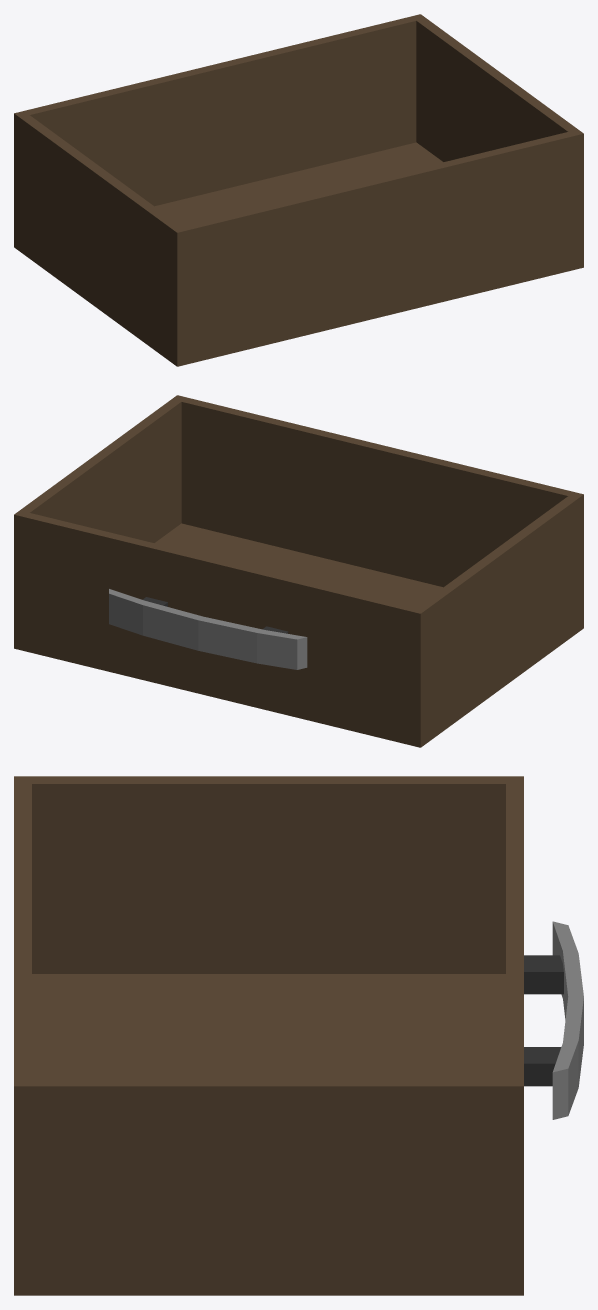
File: reception_desk_drawer.fbx
3 renders of one model, top to bottom at view 1: azimuth 30°, elevation 25°; view 2: azimuth 150°, elevation 25°; view 3: azimuth 270°, elevation 25°, orthographic. The views are drawn at different scales.
Parts seen in each view (by area): view 1: reception_desk_drawer; view 2: reception_desk_drawer; view 3: reception_desk_drawer.
Part boxes in pixels (left/top/right/bottom): reception_desk_drawer: left=14, top=14, right=583, bottom=366; reception_desk_drawer: left=14, top=395, right=583, bottom=747; reception_desk_drawer: left=14, top=776, right=583, bottom=1295.
Size of the model in its own units: 48.26 by 15.19 by 37.5.
